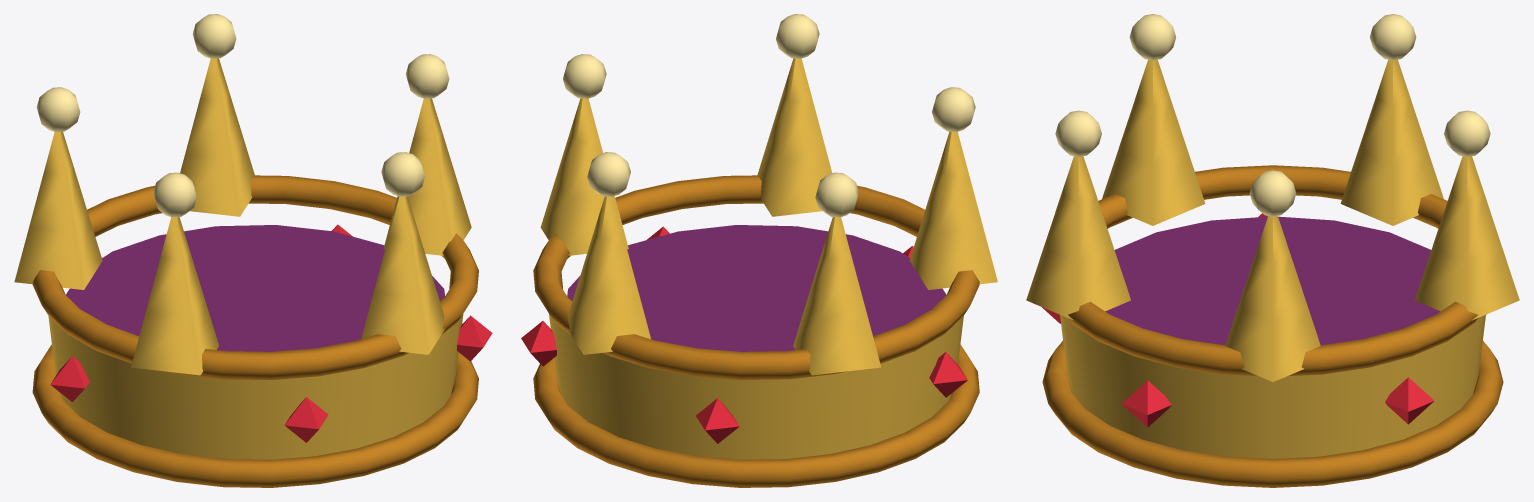
File: Crown3D.glb
3 renders of one model, left to right at view 1: azimuth 30°, elevation 25°; view 2: azimuth 150°, elevation 25°; view 3: azimuth 270°, elevation 25°, orthographic. The views are drawn at different scales.
Visible parts, largest first — view 1: Body; view 2: Body; view 3: Body.
Part boxes in pixels (box(x1,y1,x2,y2)): Body: box(14, 14, 492, 487); Body: box(521, 14, 997, 487); Body: box(1026, 14, 1519, 487).
Size of the model in its own units: 1.73 by 1.16 by 1.69.
1 material, 1 textured.
